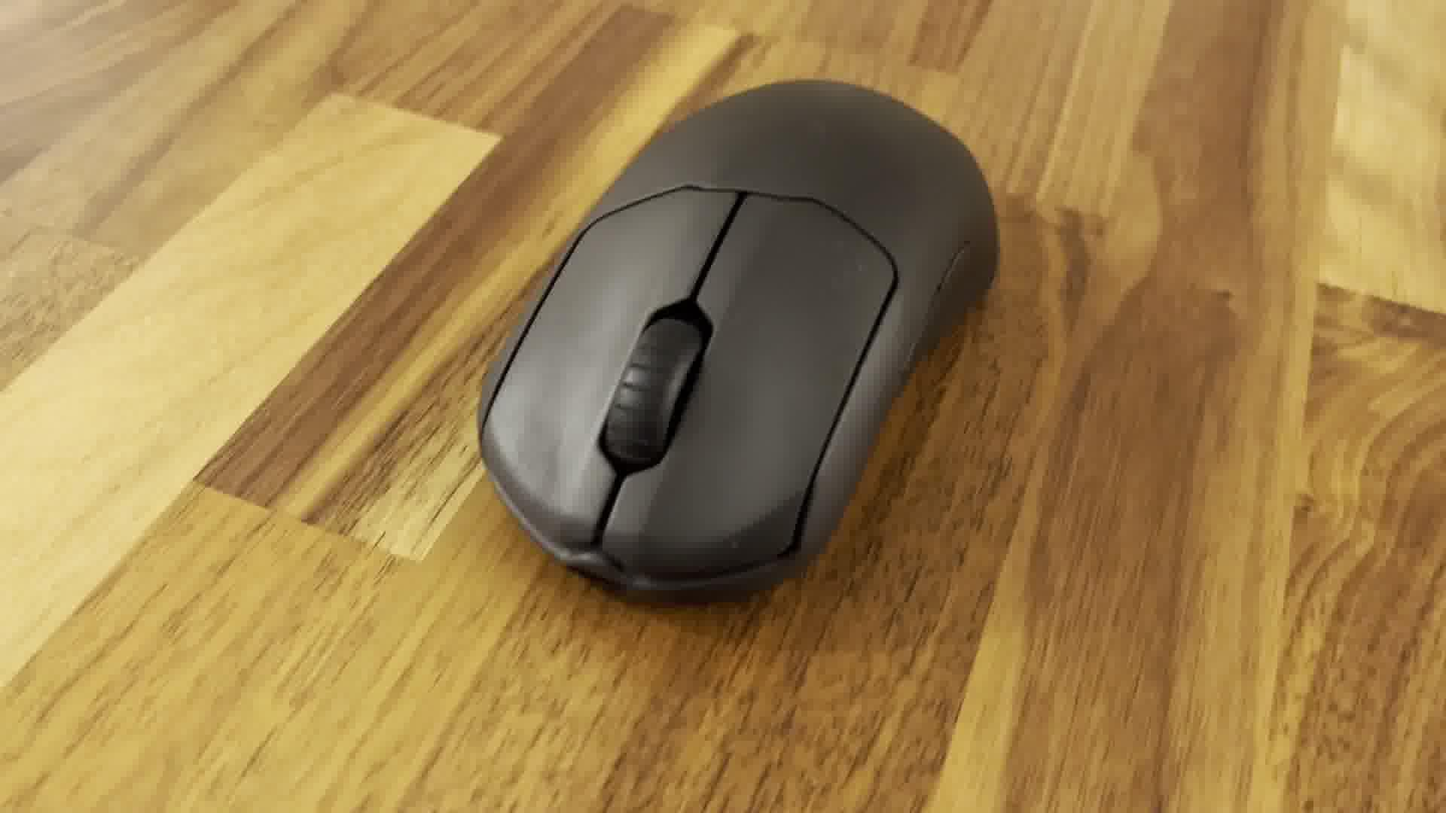mouse: (471, 71, 1007, 609)
